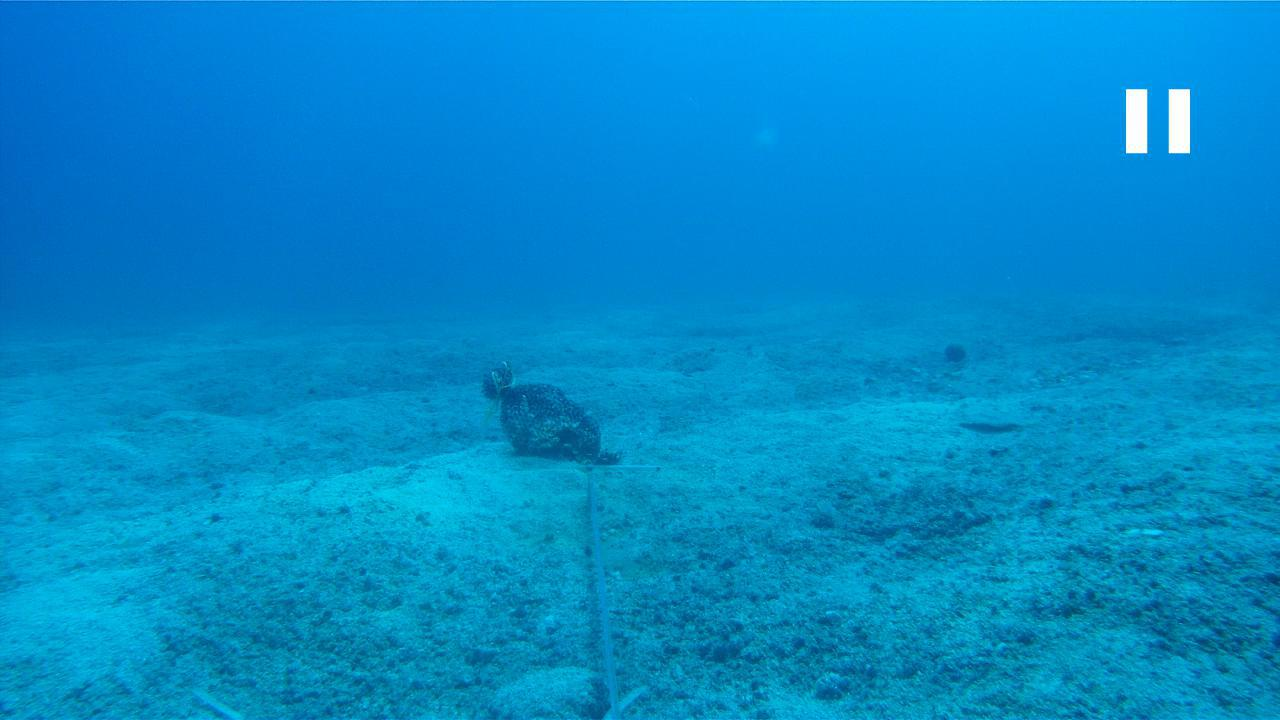bothus: (955, 405, 1034, 431)
